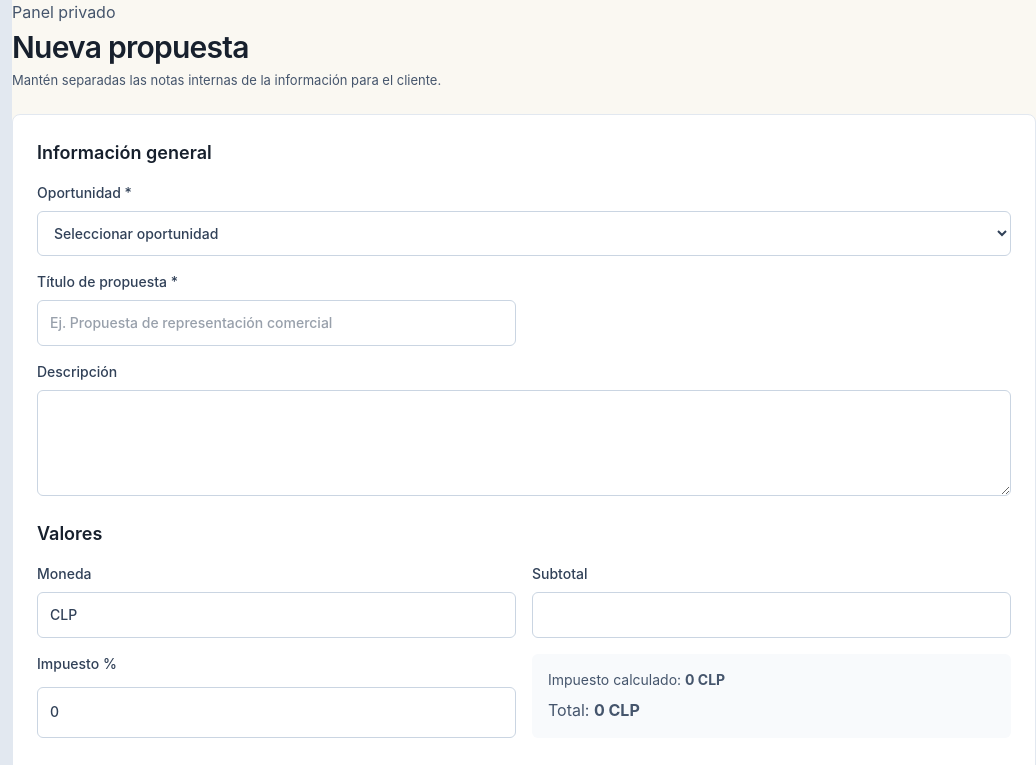
Test: AdminProposals › calcula impuesto y total, exige oportunidad y no permite editar código
Expected: the heading "Nueva propuesta" is shown, [12,29,249,65]
Type "Propuesta nueva" into the field labelled "Título de propuesta *" at (276, 323), box [37,300,516,346]
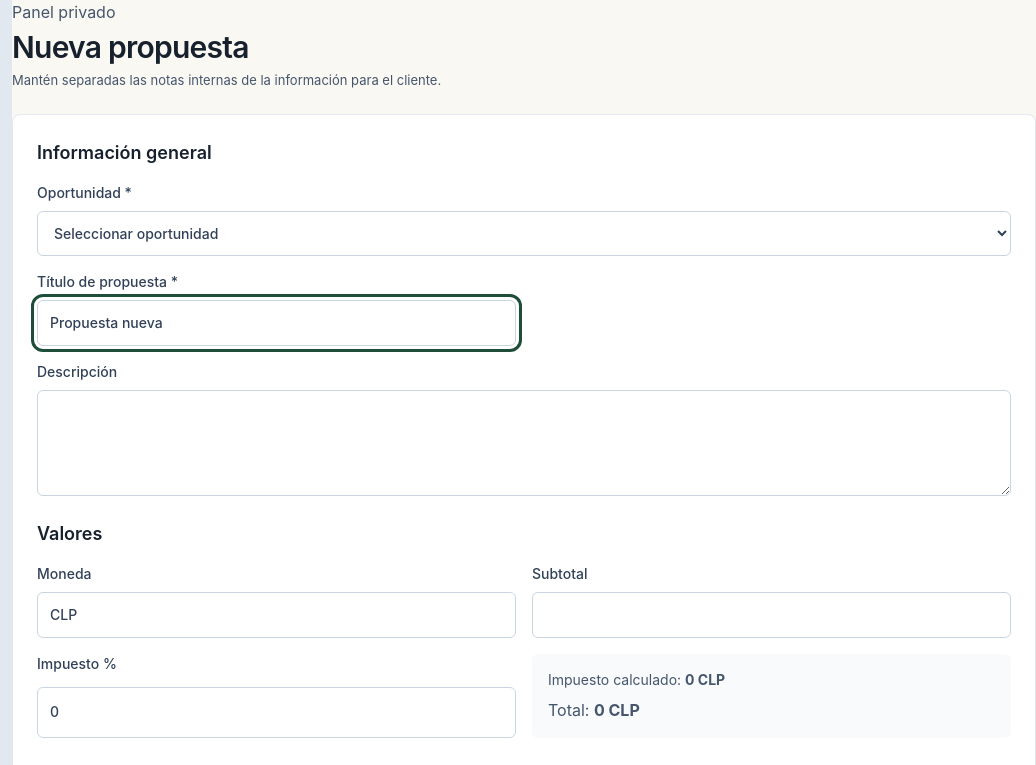
Type "1000000" into the number field labelled "Subtotal" at (772, 615), box [532,592,1011,638]
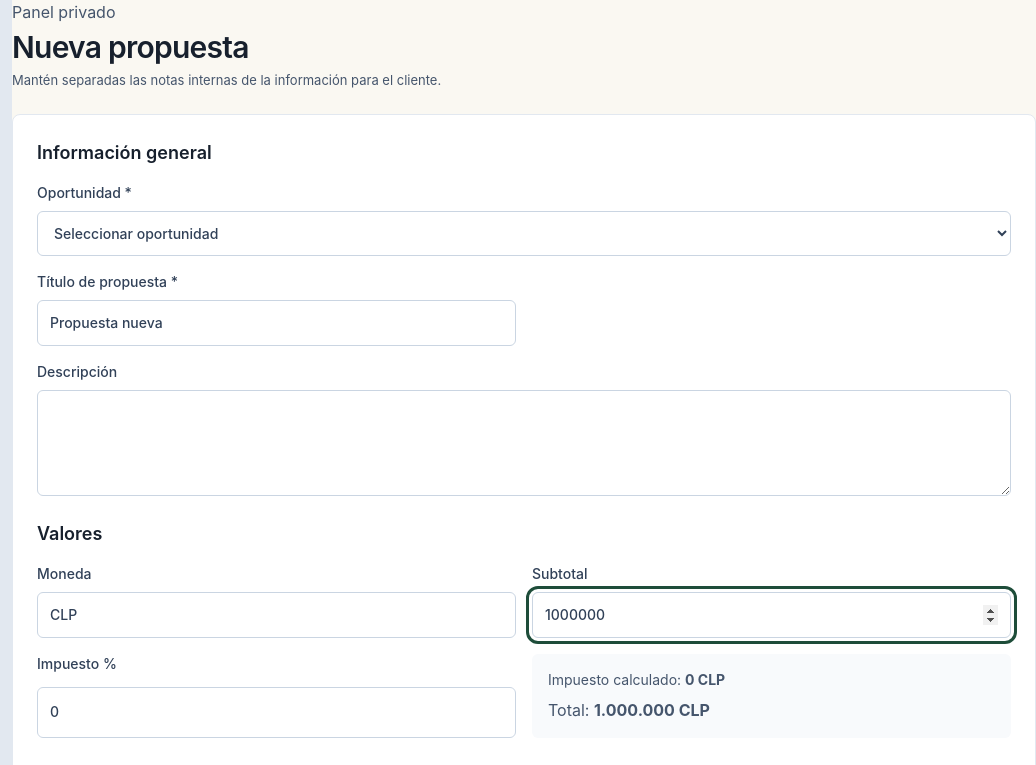
Replace the text in the number field labelled "Impuesto %" with "19" at (276, 712), box [37,687,516,738]
(page scrolled)
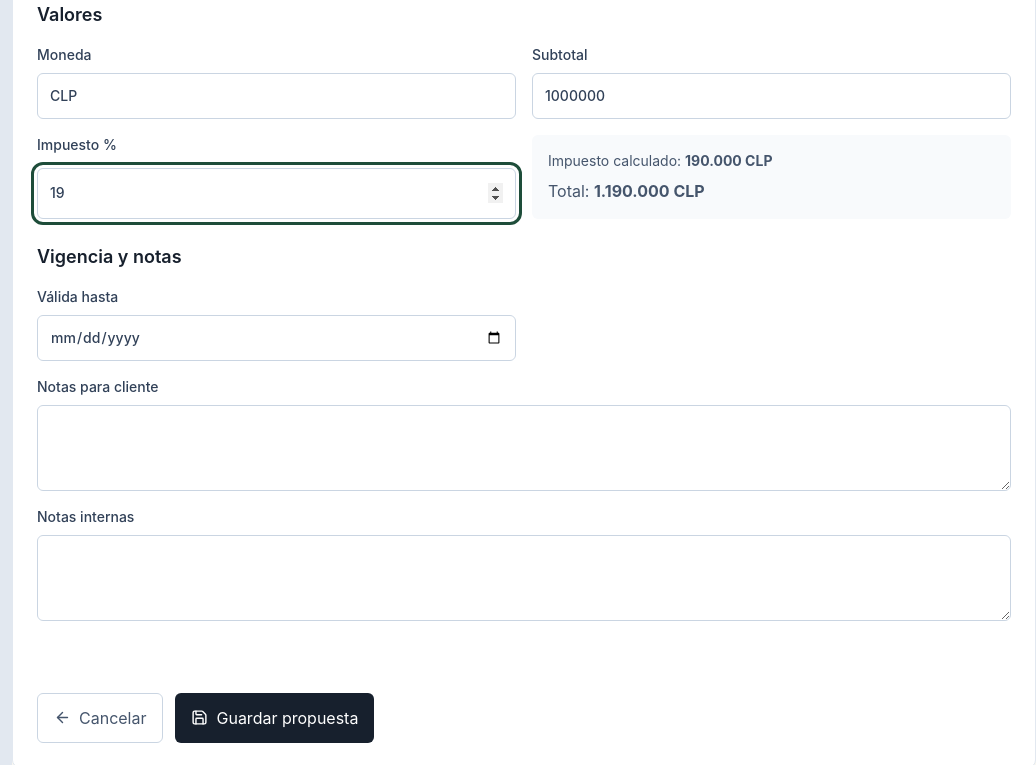
Expected: the text "1.190.000 CLP" is shown, [594,181,705,201]
Click the button "Guardar propuesta" at (275, 718), box [176,693,374,743]
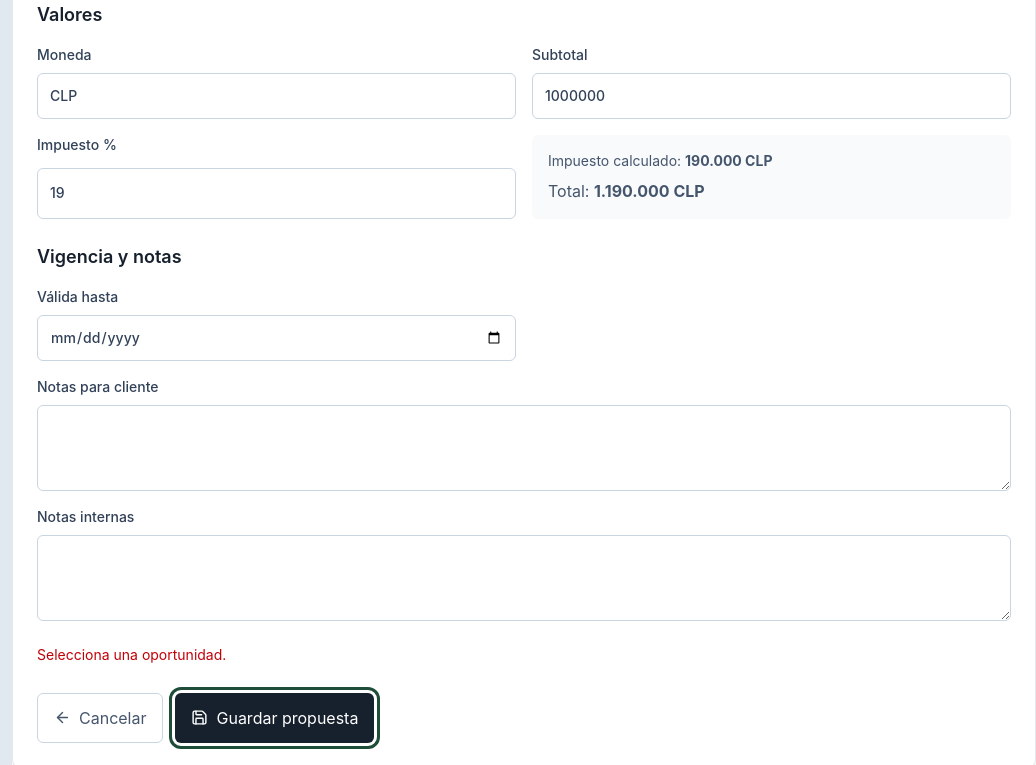
Expected: the text "Selecciona una oportunidad." is shown, [37,646,226,663]
